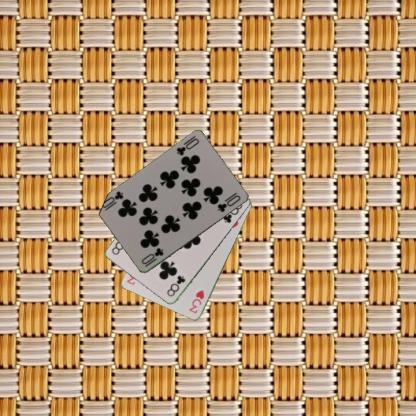10c: (174, 134, 200, 157), (138, 246, 164, 268)
3h: (186, 288, 206, 315)
8c: (164, 273, 187, 298)
